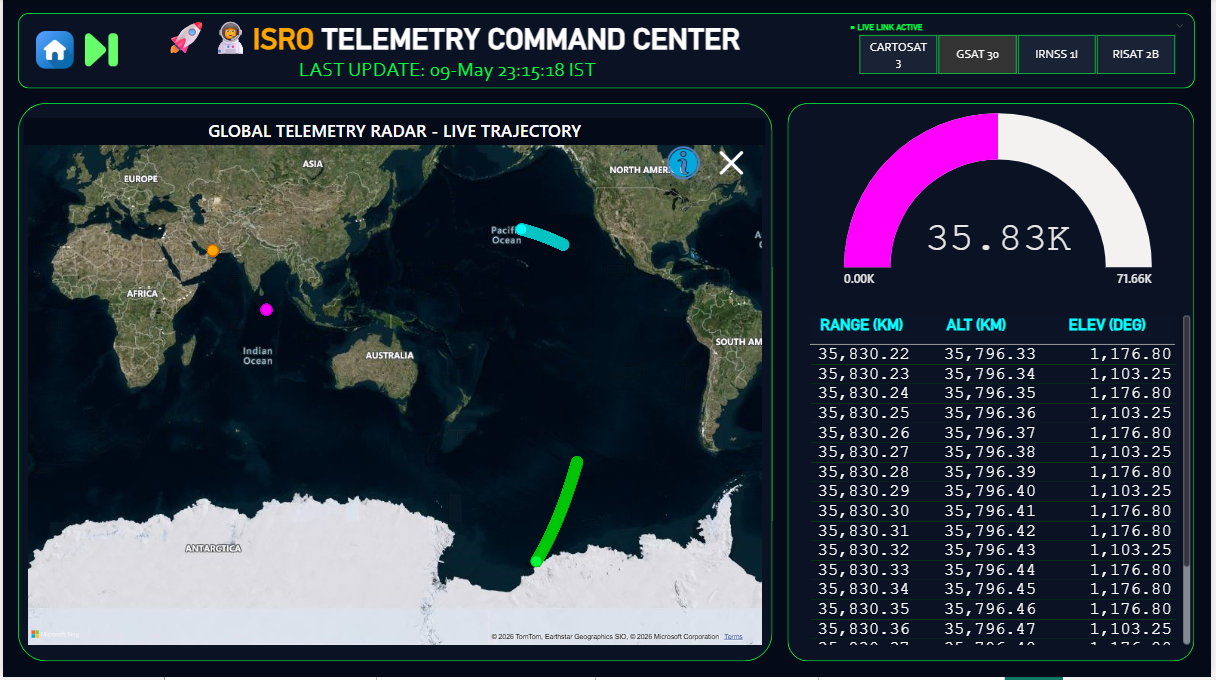

What the dashboard file says about the page in this screenshot:
{"tool":"powerbi","page":{"name":"GLOBAL TRACKING","canvas":[1600,900],"ordinal":1},"visuals":[{"type":"shape","box":[20,20,1560,100],"z":0},{"type":"shape","box":[20,140,1000,740],"z":1000},{"type":"shape","box":[1040,140,539,740],"z":2000},{"type":"map","title":"GLOBAL TELEMETRY RADAR - LIVE TRAJECTORY","fields":{"Y":["Master_ISRO_Telemetry.latitude"],"X":["Master_ISRO_Telemetry.longitude"],"Series":["Master_ISRO_Telemetry.satname"]},"box":[28.3,158.3,982.7,703.9],"z":3000},{"type":"gauge","fields":{"Y":["Avg(Master_ISRO_Telemetry.Distance_ISTRAC_km)"]},"box":[1110.2,89.8,418.1,361.4],"z":4000},{"type":"slicer","fields":{"Values":["Master_ISRO_Telemetry.satname"]},"box":[1110.2,26.8,467.7,79.5],"z":5000},{"type":"tableEx","fields":{"Values":["Master_ISRO_Telemetry.Distance_ISTRAC_km","Master_ISRO_Telemetry.Altitude (km)","Sum(Master_ISRO_Telemetry.Elevation)"]},"box":[1063,415.8,515,446.5],"z":6000},{"type":"textbox","box":[207.9,16.5,810.2,73.2],"z":7000},{"type":"card","fields":{"Values":["Master_ISRO_Telemetry.Last_Sync_Time"]},"box":[266.9,51.2,644.9,85],"z":8000},{"type":"image","box":[870.3,193.8,61.9,51.5],"z":9000},{"type":"image","box":[934.3,193.8,61.9,51.5],"z":10000},{"type":"image","box":[43.8,43.7,49.7,49.7],"z":11000},{"type":"image","box":[105.4,43.7,49.7,49.7],"z":12000}]}

Visuals, with their boxes in screenshot pixels (x1, y1, x2, y2), scaled from the page's 1600x900 canvas onto the 1216x680 screenshot:
shape: (left=15, top=15, right=1201, bottom=91)
shape: (left=15, top=106, right=775, bottom=665)
shape: (left=790, top=106, right=1200, bottom=665)
"GLOBAL TELEMETRY RADAR - LIVE TRAJECTORY" map: (left=22, top=120, right=768, bottom=651)
gauge - Avg(Master_ISRO_Telemetry.Distance_ISTRAC_km): (left=844, top=68, right=1162, bottom=341)
slicer - Master_ISRO_Telemetry.satname: (left=844, top=20, right=1199, bottom=80)
tableEx - Master_ISRO_Telemetry.Distance_ISTRAC_km x Master_ISRO_Telemetry.Altitude (km): (left=808, top=314, right=1199, bottom=652)
textbox: (left=158, top=12, right=774, bottom=68)
card - Master_ISRO_Telemetry.Last_Sync_Time: (left=203, top=39, right=693, bottom=103)
image: (left=661, top=146, right=708, bottom=185)
image: (left=710, top=146, right=757, bottom=185)
image: (left=33, top=33, right=71, bottom=71)
image: (left=80, top=33, right=118, bottom=71)
